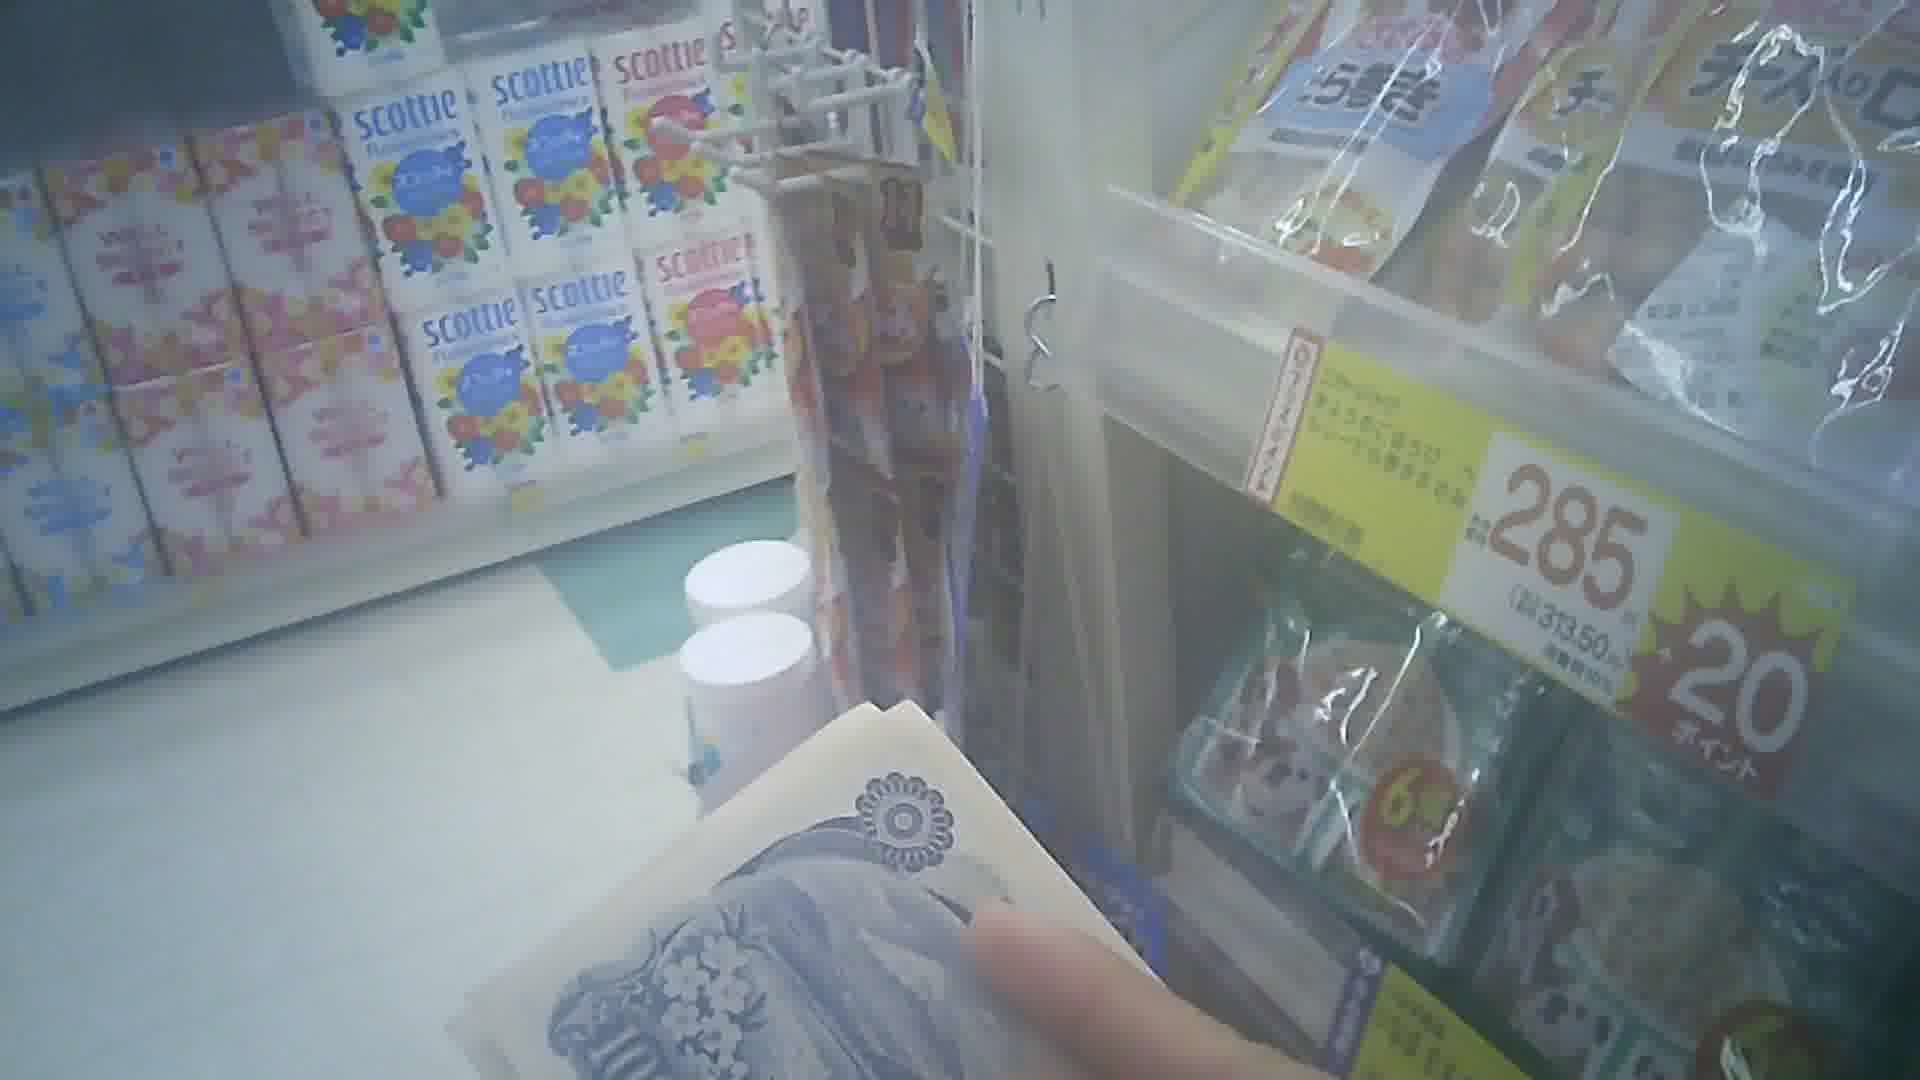1,000 Yen: (464, 694, 1102, 1064)
